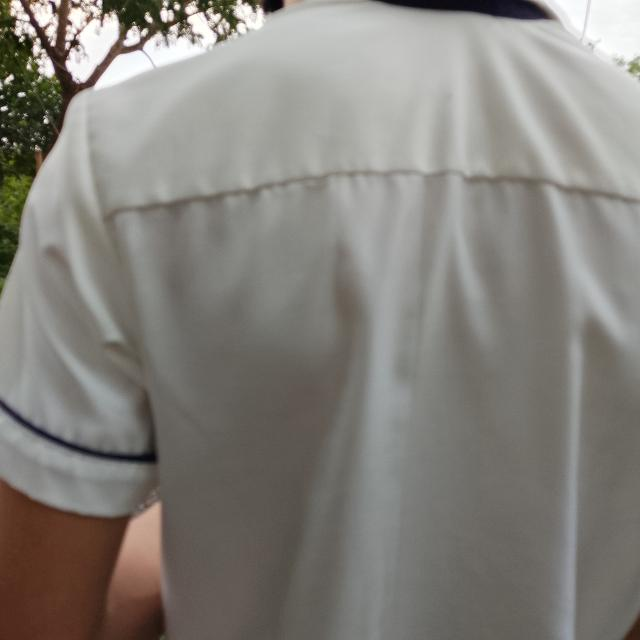education_male_uniform: (6, 8, 640, 544)
